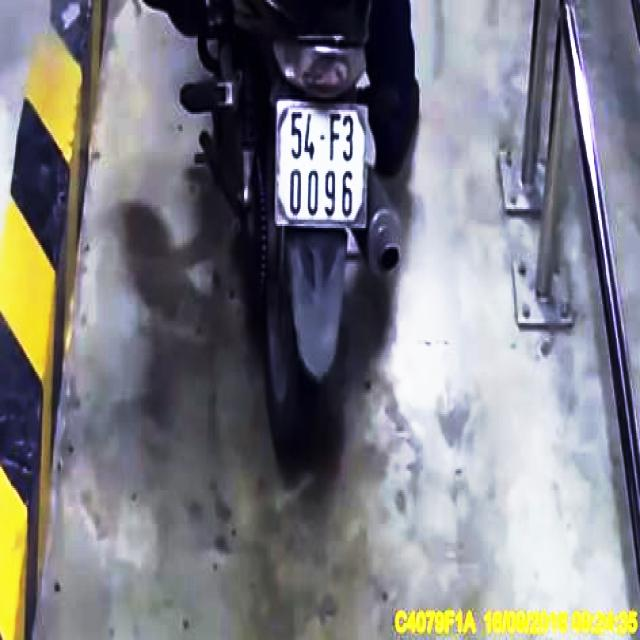license_plate: (277, 99, 371, 234)
